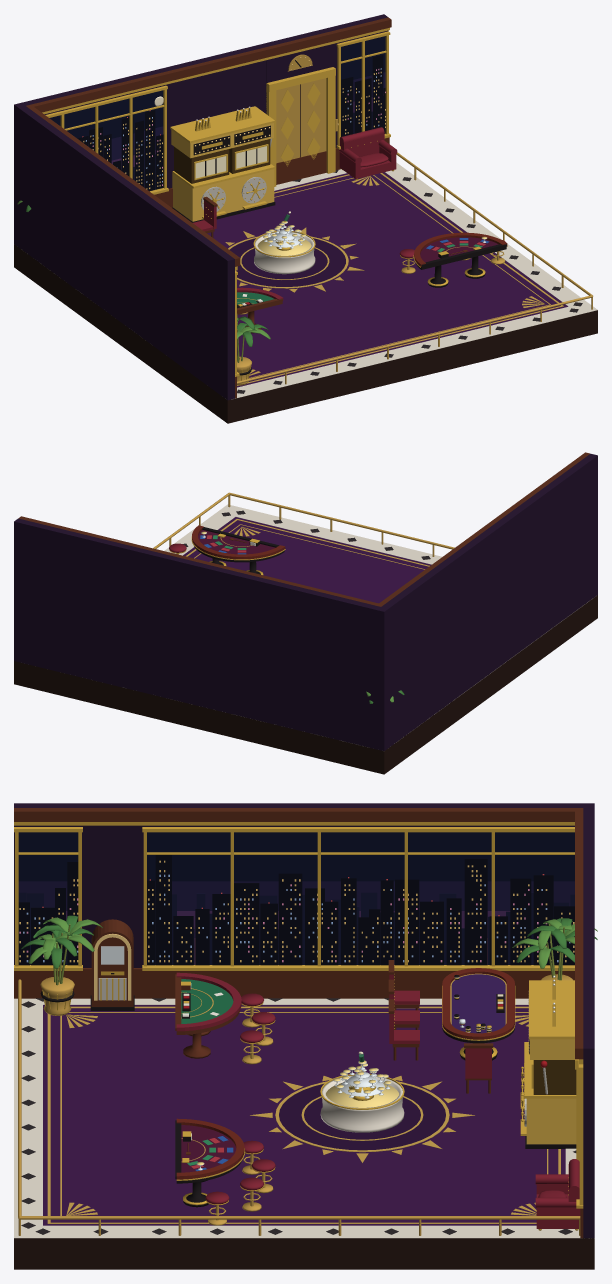
The model's file is casino_vip.glb.
The picture shows the model from 3 angles, top to bottom: view 1: azimuth 30°, elevation 25°; view 2: azimuth 150°, elevation 25°; view 3: azimuth 270°, elevation 25°; orthographic projection. The views are drawn at different scales.
Visible parts, largest first — view 1: Casino_VipStatic; view 2: Casino_VipStatic; view 3: Casino_VipStatic.
Boxes of the visible parts, box(x1,y1,x2,y2) form: Casino_VipStatic: box(14, 14, 597, 423); Casino_VipStatic: box(14, 452, 597, 774); Casino_VipStatic: box(14, 803, 597, 1269).
Size of the model in its own units: 10.1 by 4.2 by 10.05.
